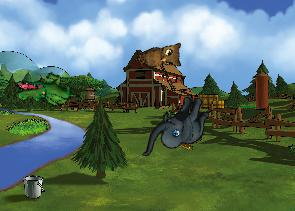crocodile: (13, 65, 80, 116)
elephant: (141, 87, 212, 168)
owl: (134, 37, 188, 81)
